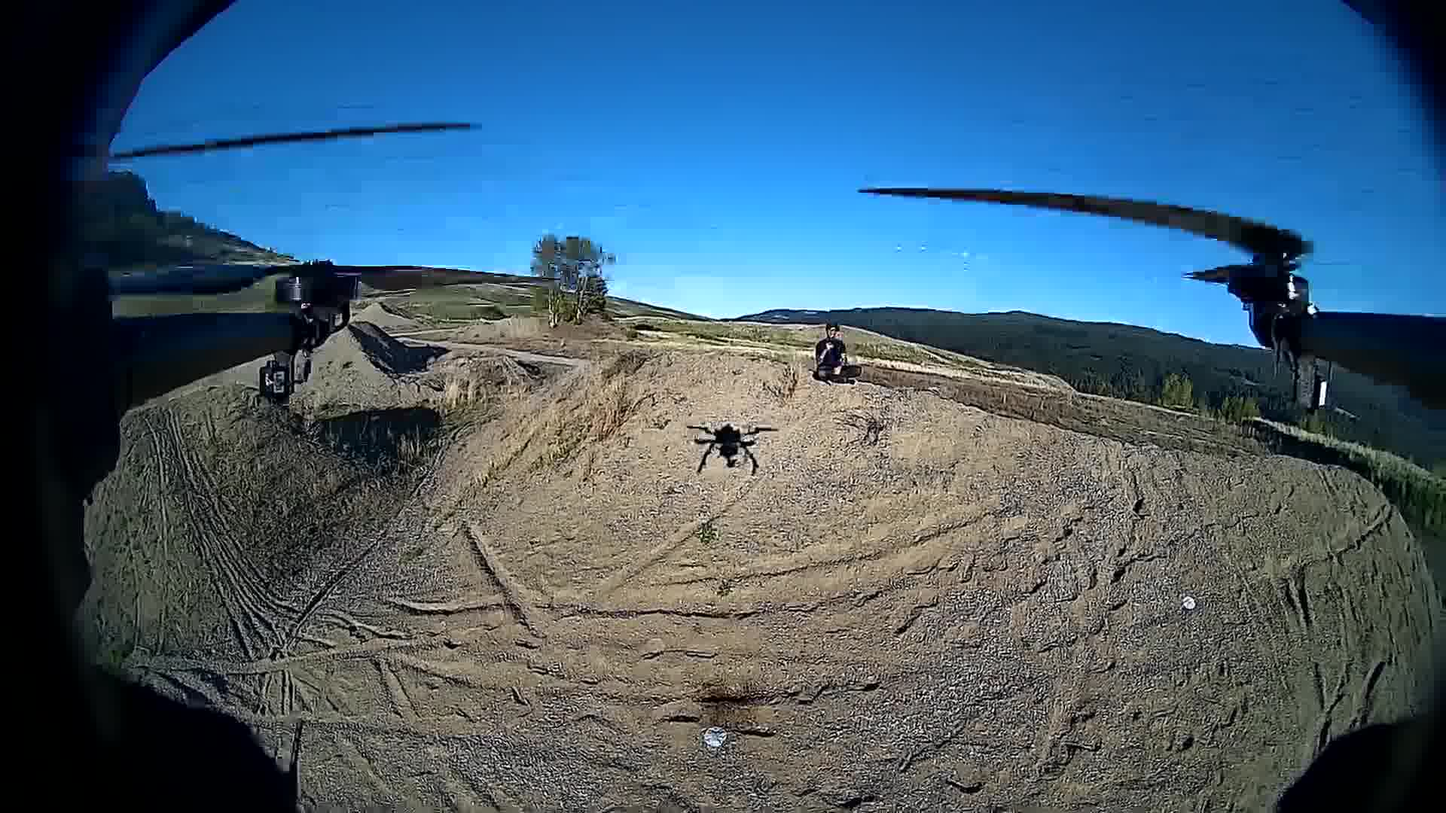Target: (704, 728, 728, 747), (1182, 597, 1197, 611)
